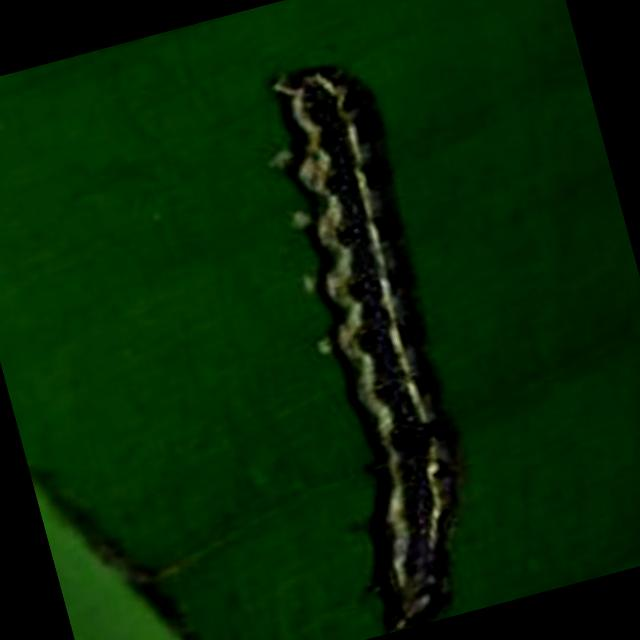Tobacco cutworm: (101, 11, 576, 640)
